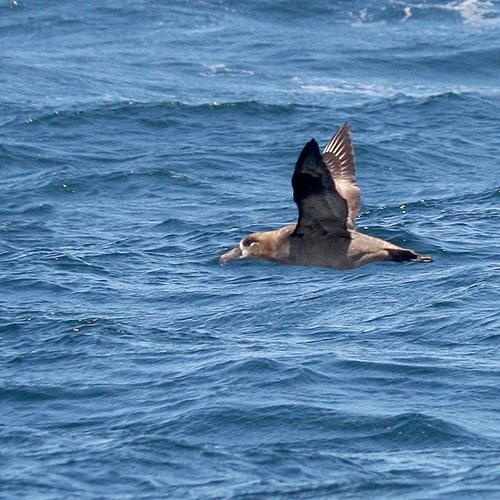bird: (215, 122, 441, 278)
